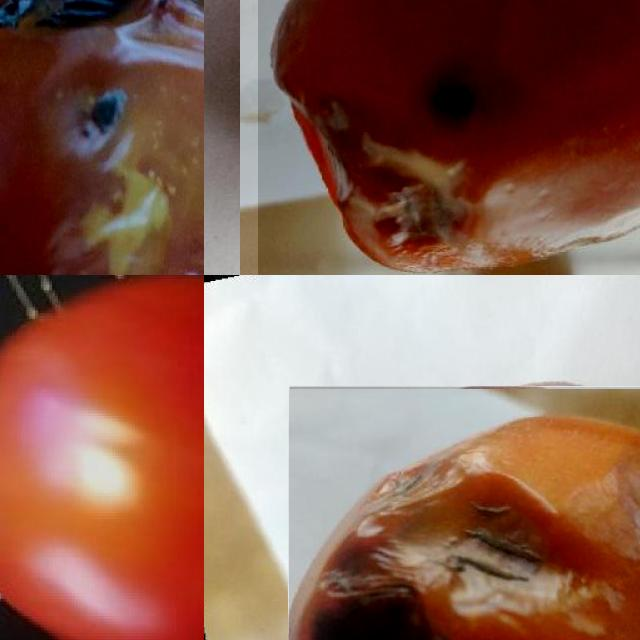1: (289, 387, 640, 640)
Fresh Tomato: (0, 275, 204, 640)
Rotten Tomato: (257, 0, 640, 275), (0, 0, 204, 275)
